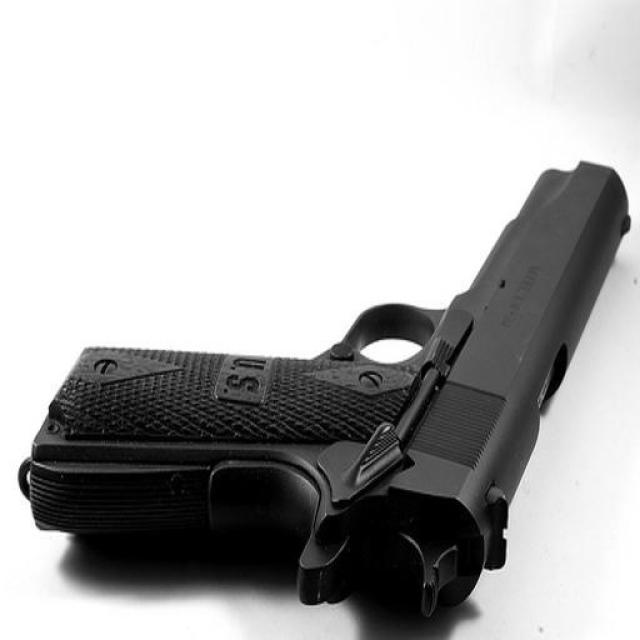pistol: (15, 159, 630, 624)
